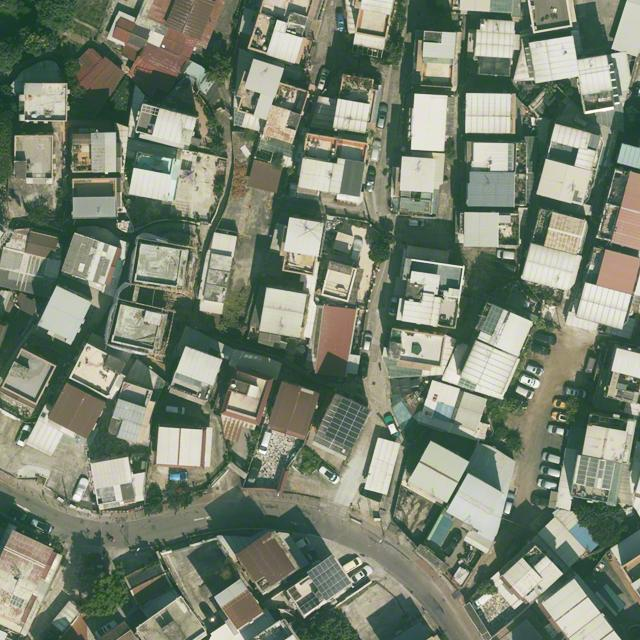panel: (325, 398, 369, 449), (340, 159, 365, 197), (576, 455, 599, 488), (602, 462, 615, 490), (596, 459, 607, 481)
